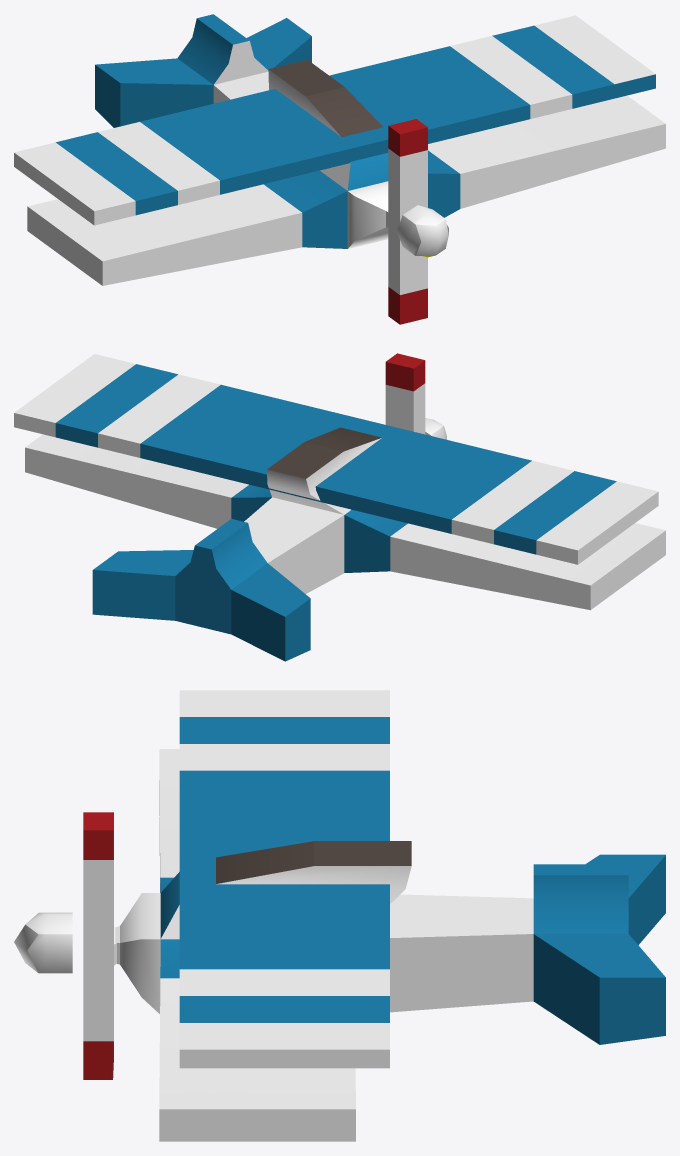
Rendered from FighterPlane4.fbx.
3 views of the same model, one above another, from view 1: azimuth 30°, elevation 25°; view 2: azimuth 150°, elevation 25°; view 3: azimuth 270°, elevation 25° (orthographic). The views are drawn at different scales.
Visible parts, largest first — view 1: FighterPlane4, Fan3; view 2: FighterPlane4, Fan3; view 3: FighterPlane4, Fan3.
Boxes of the visible parts, left/top/right/bottom form: FighterPlane4: left=14, top=14, right=665, bottom=285; Fan3: left=388, top=119, right=427, bottom=324; FighterPlane4: left=14, top=354, right=665, bottom=661; Fan3: left=385, top=353, right=425, bottom=434; FighterPlane4: left=14, top=690, right=665, bottom=1141; Fan3: left=83, top=812, right=116, bottom=1079.
Size of the model in its own units: 17.45 by 5.64 by 13.33.
